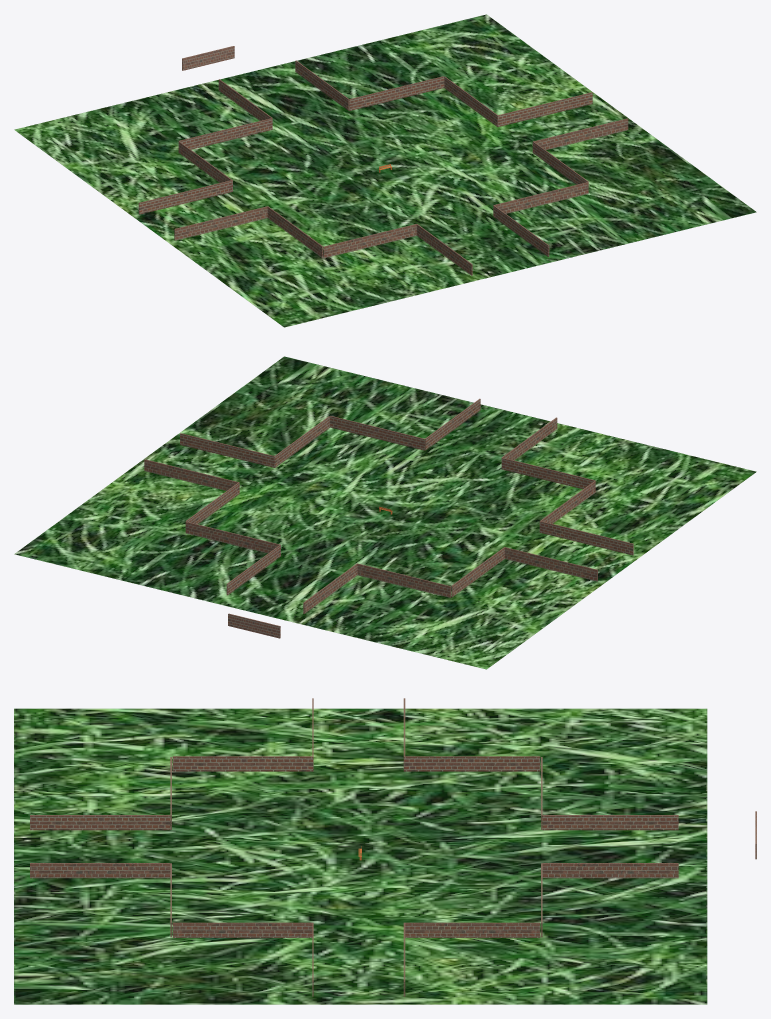
File: map 2 (made my me).glb
3 views of the same model, one above another, from view 1: azimuth 30°, elevation 25°; view 2: azimuth 150°, elevation 25°; view 3: azimuth 270°, elevation 25° (orthographic). The views are drawn at different scales.
Visible parts, largest first — view 1: -col.006, -col.001, -col.003, -col.005, -col.004, -col.002; view 2: -col.006, -col.005, -col.004, -col.001, -col.003, -col.002; view 3: -col.006, -col.005, -col.001, -col.003, -col.004.
Part boxes in pixels (box(x1,y1,x2,y2)): -col.006: box(14, 14, 756, 327); -col.001: box(174, 206, 472, 275); -col.003: box(295, 60, 592, 126); -col.005: box(493, 118, 628, 256); -col.004: box(138, 79, 272, 214); -col.002: box(182, 46, 234, 70); -col.006: box(14, 356, 756, 669); -col.005: box(180, 398, 480, 467); -col.004: box(303, 547, 597, 613); -col.001: box(501, 417, 633, 555); -col.003: box(144, 459, 280, 595); -col.002: box(228, 613, 280, 638); -col.006: box(14, 708, 707, 1004); -col.005: box(30, 863, 313, 996); -col.001: box(30, 698, 313, 830); -col.003: box(403, 863, 678, 996); -col.004: box(403, 698, 678, 830).
Bounding box in the file's own units: 103 × 2.5 × 109.
20 materials, 18 textured.
